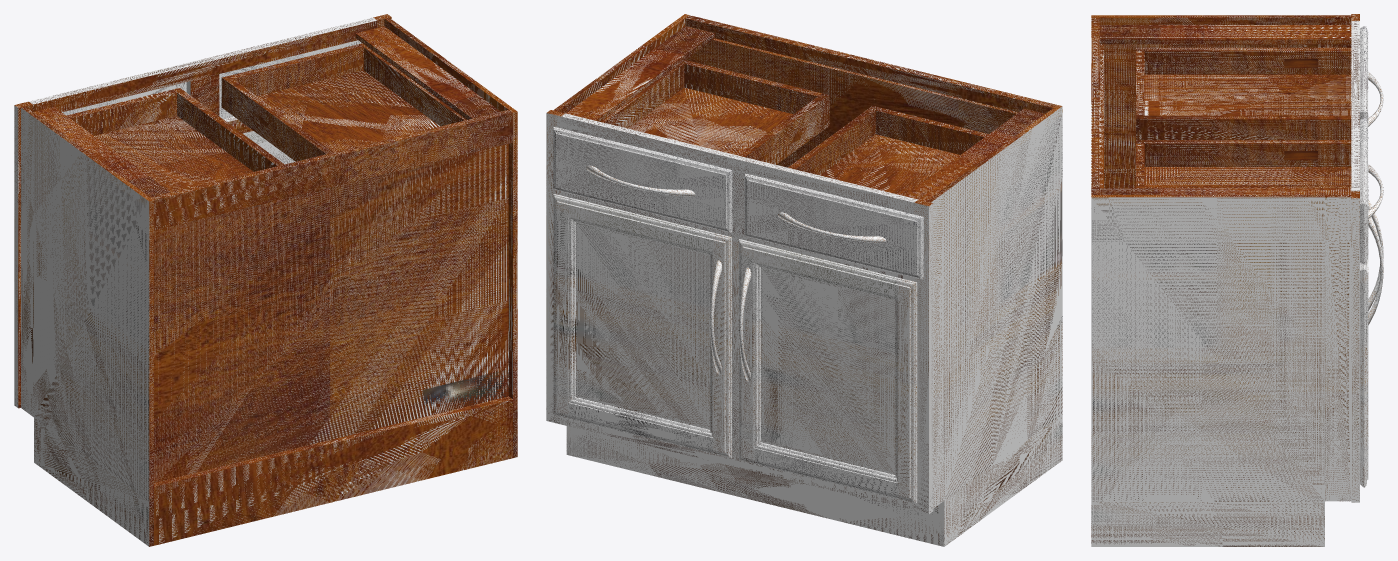
3 renders of one model, left to right at view 1: azimuth 30°, elevation 25°; view 2: azimuth 150°, elevation 25°; view 3: azimuth 270°, elevation 25°, orthographic. The views are drawn at different scales.
Visible parts, largest first — view 1: mesh5_mesh5-geometry, mesh8_mesh8-geometry, mesh14_mesh14-geometry, mesh22_mesh22-geometry, mesh4_mesh4-geometry, mesh19_mesh19-geometry, mesh6_mesh6-geometry, mesh20_mesh20-geometry, mesh9_mesh9-geometry, mesh11_mesh11-geometry, mesh7_mesh7-geometry, mesh16_mesh16-geometry (+5 smaller); view 2: mesh8_mesh8-geometry, mesh52_mesh52-geometry, mesh42_mesh42-geometry, mesh29_mesh29-geometry, mesh15_mesh15-geometry, mesh6_mesh6-geometry, mesh22_mesh22-geometry, mesh5_mesh5-geometry, mesh3_mesh3-geometry, mesh19_mesh19-geometry, mesh20_mesh20-geometry, mesh4_mesh4-geometry (+25 smaller); view 3: mesh11_mesh11-geometry, mesh19_mesh19-geometry, mesh22_mesh22-geometry, mesh12_mesh12-geometry, mesh10_mesh10-geometry, mesh8_mesh8-geometry, mesh17_mesh17-geometry, mesh3_mesh3-geometry, mesh16_mesh16-geometry, mesh4_mesh4-geometry, mesh6_mesh6-geometry, mesh43_mesh43-geometry (+9 smaller).
Part boxes in pixels (box(x1,y1,x2,y2)): mesh5_mesh5-geometry: box(154, 144, 508, 482); mesh8_mesh8-geometry: box(34, 116, 153, 501); mesh14_mesh14-geometry: box(154, 396, 512, 545); mesh22_mesh22-geometry: box(94, 70, 439, 191); mesh4_mesh4-geometry: box(150, 110, 512, 230); mesh19_mesh19-geometry: box(173, 43, 466, 171); mesh6_mesh6-geometry: box(29, 17, 377, 133); mesh20_mesh20-geometry: box(66, 44, 363, 135); mesh9_mesh9-geometry: box(34, 418, 153, 546); mesh11_mesh11-geometry: box(397, 27, 517, 412); mesh7_mesh7-geometry: box(21, 106, 38, 417); mesh16_mesh16-geometry: box(355, 26, 500, 119); mesh8_mesh8-geometry: box(939, 105, 1062, 500); mesh52_mesh52-geometry: box(762, 269, 894, 472); mesh42_mesh42-geometry: box(577, 224, 709, 427); mesh29_mesh29-geometry: box(557, 135, 915, 274); mesh15_mesh15-geometry: box(571, 427, 939, 545); mesh6_mesh6-geometry: box(561, 113, 918, 510); mesh22_mesh22-geometry: box(628, 87, 959, 195); mesh5_mesh5-geometry: box(686, 38, 1018, 167); mesh3_mesh3-geometry: box(546, 110, 933, 514); mesh19_mesh19-geometry: box(601, 60, 879, 175); mesh20_mesh20-geometry: box(684, 61, 988, 154); mesh4_mesh4-geometry: box(685, 15, 1056, 113); mesh11_mesh11-geometry: box(1091, 195, 1324, 501); mesh19_mesh19-geometry: box(1136, 47, 1351, 166); mesh22_mesh22-geometry: box(1144, 74, 1351, 188); mesh12_mesh12-geometry: box(1091, 501, 1324, 546); mesh10_mesh10-geometry: box(1325, 195, 1351, 501); mesh8_mesh8-geometry: box(1091, 15, 1324, 188); mesh17_mesh17-geometry: box(1099, 25, 1351, 44); mesh3_mesh3-geometry: box(1351, 14, 1359, 502); mesh16_mesh16-geometry: box(1099, 188, 1351, 194); mesh4_mesh4-geometry: box(1091, 17, 1099, 194); mesh6_mesh6-geometry: box(1351, 21, 1359, 191); mesh43_mesh43-geometry: box(1360, 291, 1368, 463).
Size of the model in its own units: 0.6695 by 0.5922 by 0.4485.
